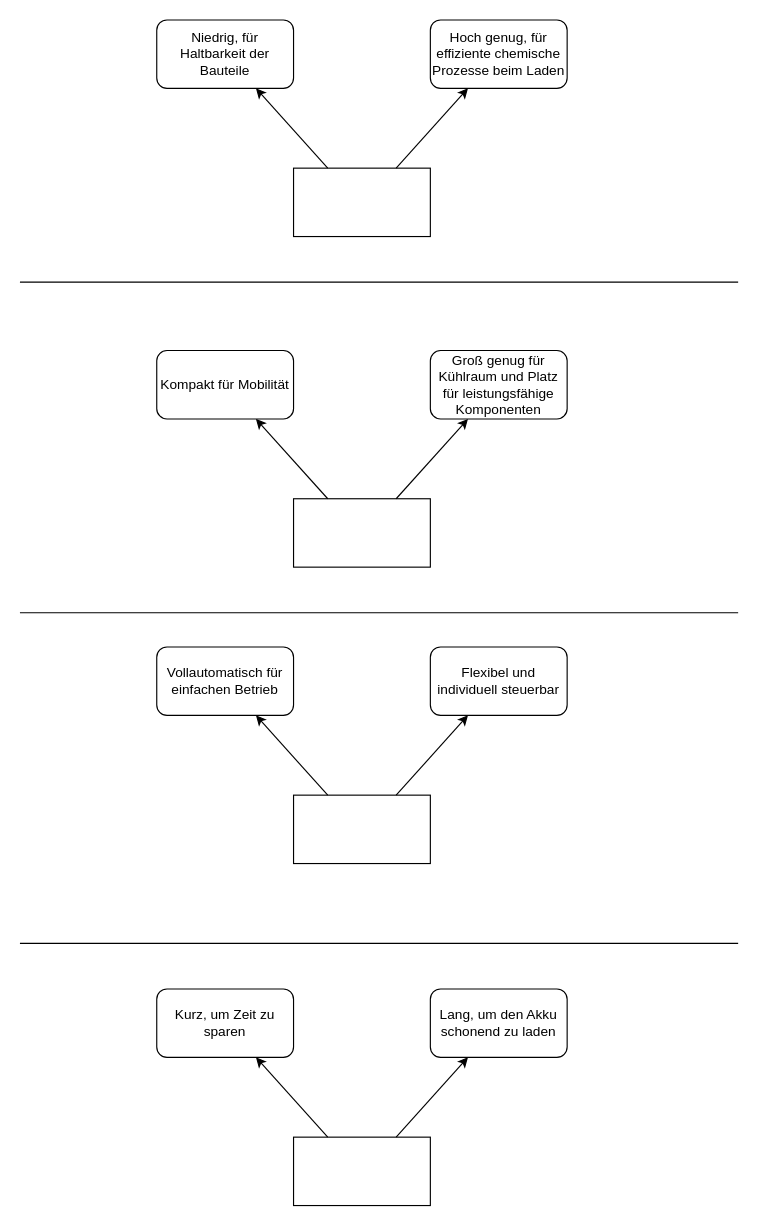
Image size: 759x1226. Some labels were removed from this diagram. The shapes that lost their labels are listed below. From the top down, each one's centre as x and y in pixels, then its label:
the point at 361,202: Temperatur
the point at 361,532: Größe und Bauraum
the point at 361,829: Ladeprozess
the point at 361,1171: Ladezeit
